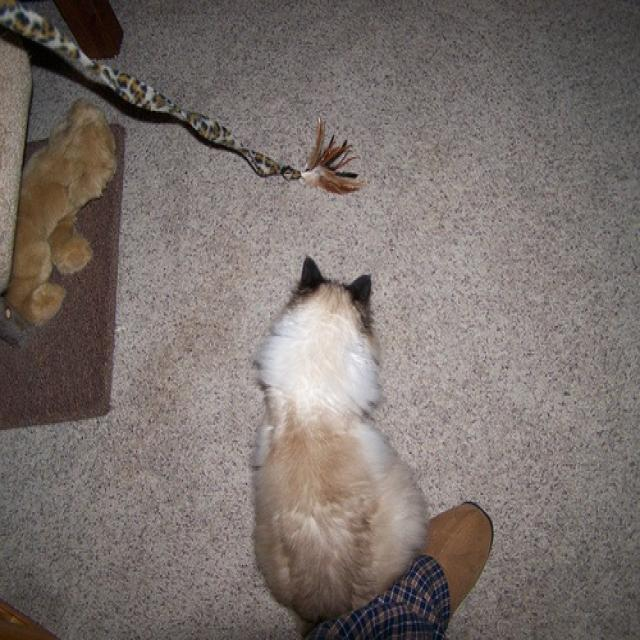cat: (249, 254, 432, 622)
